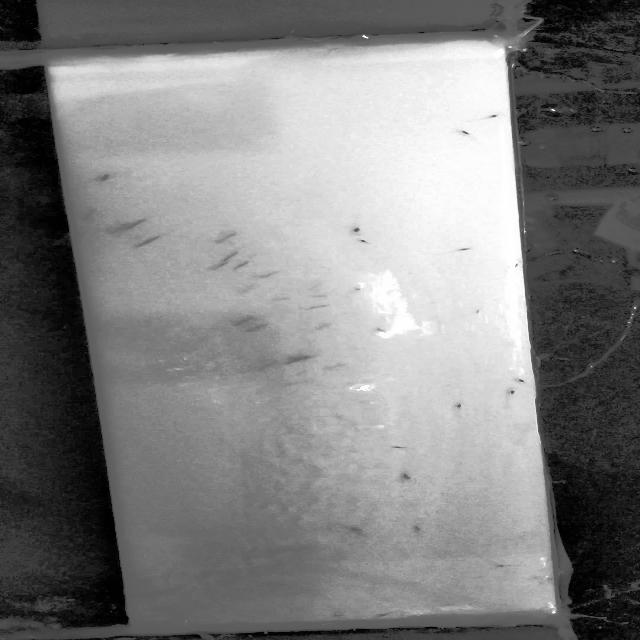shrimp: (202, 226, 246, 246), (436, 398, 476, 418), (374, 441, 418, 455), (388, 467, 420, 486), (277, 350, 314, 366), (334, 520, 376, 534), (116, 217, 155, 232), (361, 322, 397, 338), (132, 239, 177, 251), (76, 206, 103, 225), (405, 521, 433, 539), (364, 605, 400, 619), (253, 268, 290, 280), (470, 109, 504, 122), (447, 244, 482, 256), (348, 235, 379, 248), (497, 386, 529, 398), (210, 250, 248, 260), (224, 315, 258, 326), (344, 222, 375, 234), (456, 126, 481, 139), (96, 174, 123, 184), (308, 303, 334, 312), (508, 374, 528, 382)
